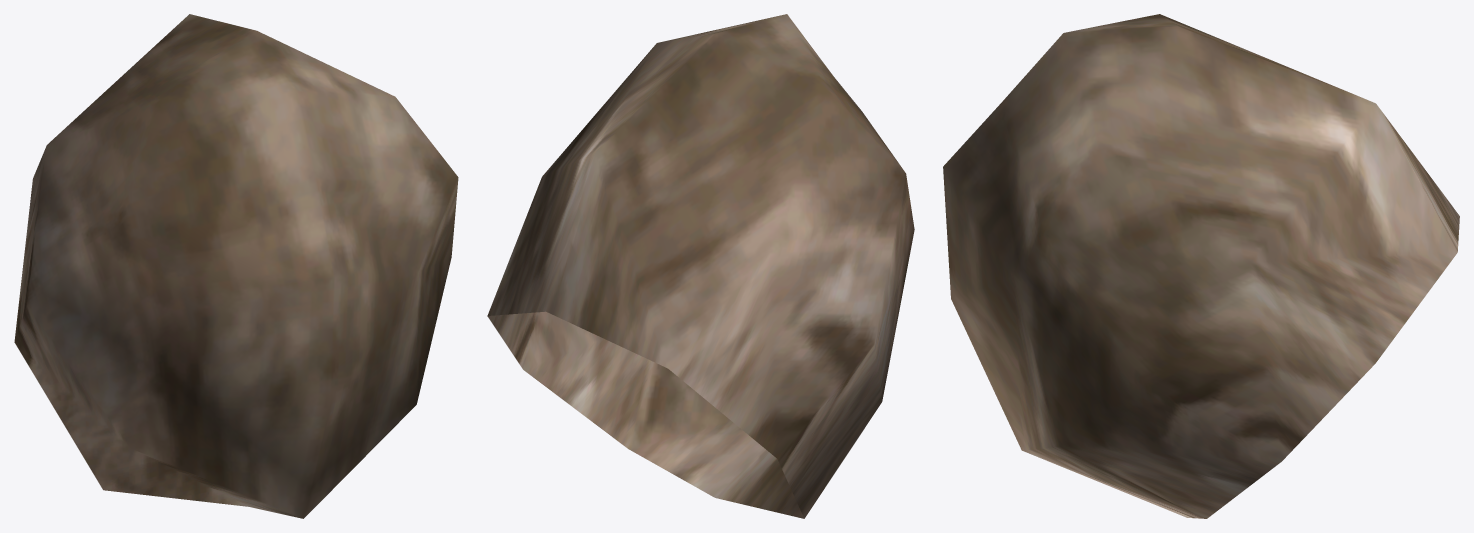
The model's file is OVERHILL_A_01_ROCK50.fbx.
3 renders of one model, left to right at view 1: azimuth 30°, elevation 25°; view 2: azimuth 150°, elevation 25°; view 3: azimuth 270°, elevation 25°, orthographic. The views are drawn at different scales.
Parts seen in each view (by area): view 1: OVERHILL_A_01_ROCK50; view 2: OVERHILL_A_01_ROCK50; view 3: OVERHILL_A_01_ROCK50.
Part boxes in pixels (left/top/right/bottom): OVERHILL_A_01_ROCK50: left=14, top=14, right=458, bottom=518; OVERHILL_A_01_ROCK50: left=487, top=14, right=914, bottom=518; OVERHILL_A_01_ROCK50: left=943, top=14, right=1459, bottom=518.
Size of the model in its own units: 10823 by 13191 by 12533.
1 material, 1 textured.
